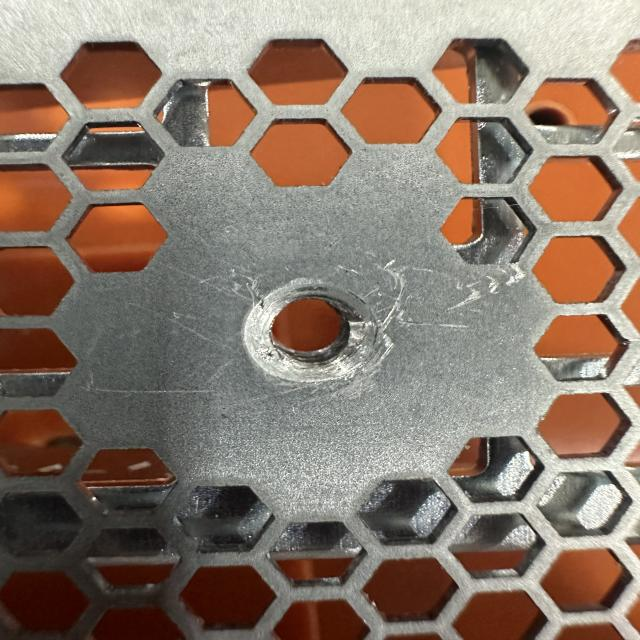Missing screw: (229, 273, 408, 391)
